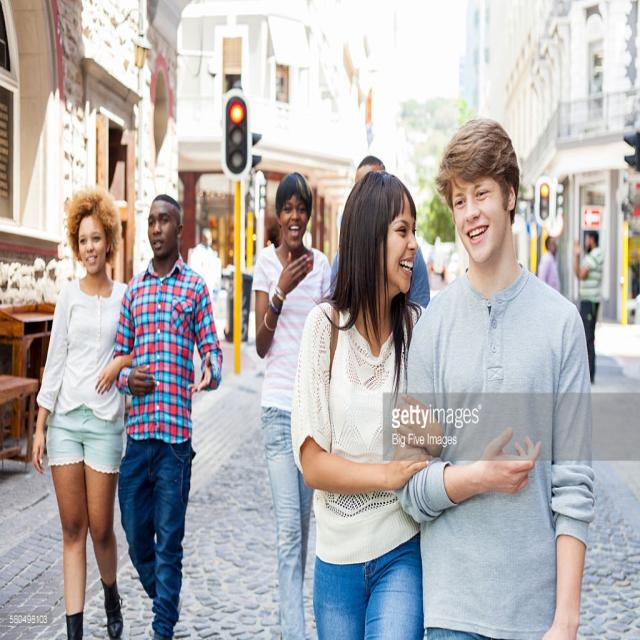body: (389, 115, 599, 639), (287, 169, 446, 639), (112, 192, 225, 639), (30, 186, 136, 639), (252, 172, 344, 639), (328, 154, 433, 323), (186, 216, 232, 340), (571, 227, 606, 386), (537, 234, 561, 294)
